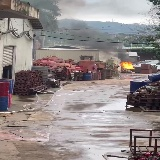fire: (120, 62, 134, 69)
